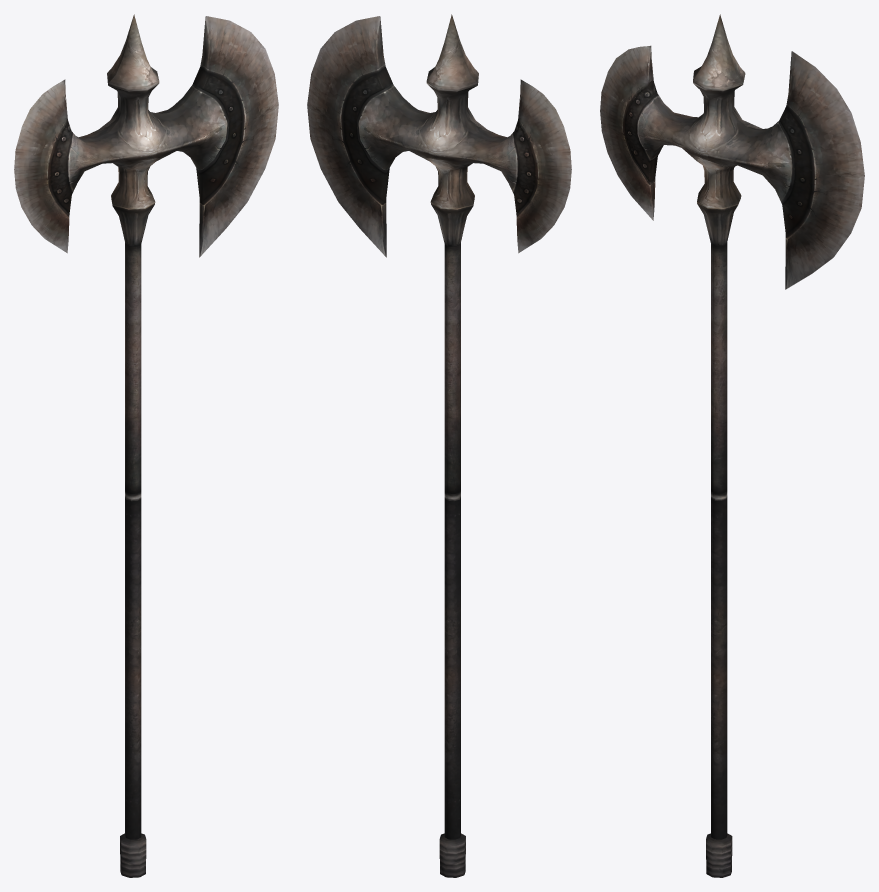
The model's file is Weapon_76.fbx.
3 renders of one model, left to right at view 1: azimuth 30°, elevation 25°; view 2: azimuth 150°, elevation 25°; view 3: azimuth 330°, elevation 25°, orthographic.
Visible parts, largest first — view 1: Weapon_76; view 2: Weapon_76; view 3: Weapon_76.
Boxes of the visible parts, x1,y1,x2,y2 form: Weapon_76: [14, 14, 278, 877]; Weapon_76: [307, 14, 571, 877]; Weapon_76: [600, 14, 864, 877].
Bounding box in the file's own units: 73.3 × 17.4 × 227.
